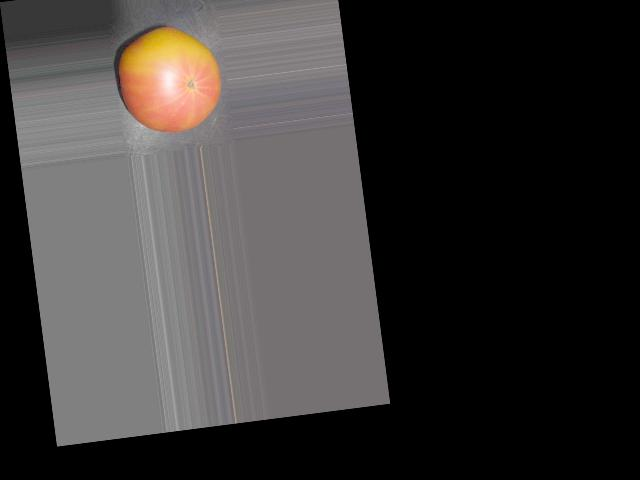tomato: (113, 21, 226, 138)
